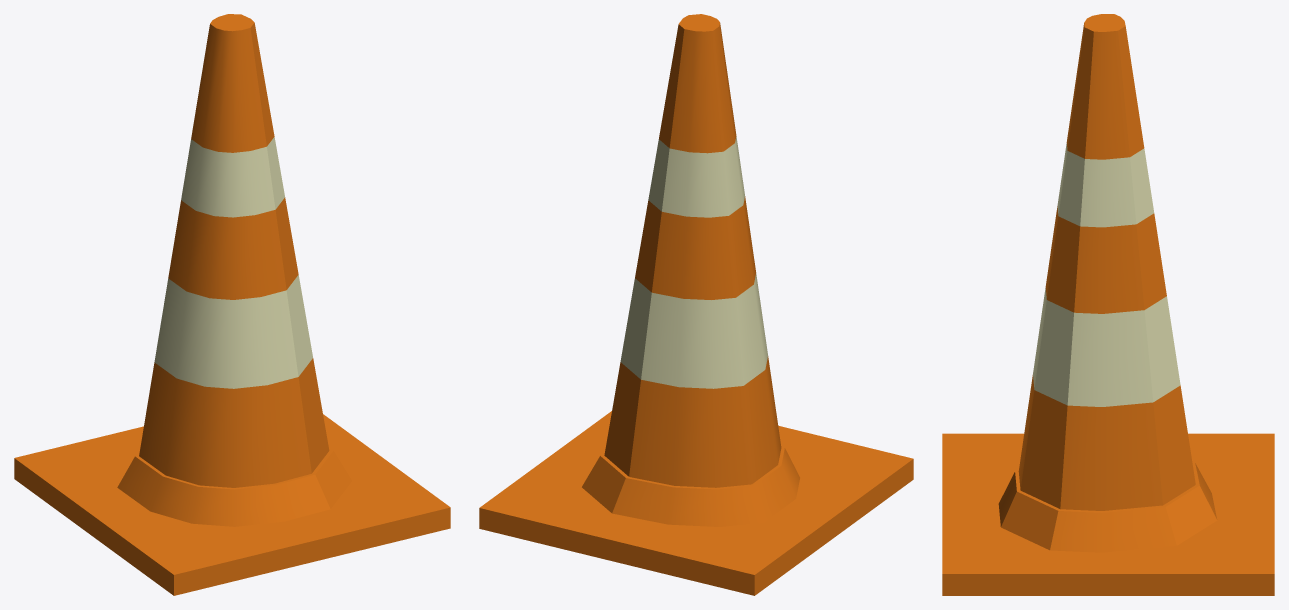
Rendered from trafficcone.fbx.
3 renders of one model, left to right at view 1: azimuth 30°, elevation 25°; view 2: azimuth 150°, elevation 25°; view 3: azimuth 270°, elevation 25°, orthographic. The views are drawn at different scales.
Visible parts, largest first — view 1: Cube; view 2: Cube; view 3: Cube.
Boxes of the visible parts, x1,y1,x2,y2 form: Cube: (14,14,450,595); Cube: (479,14,913,595); Cube: (942,14,1274,595).
Size of the model in its own units: 60 by 100 by 60.
